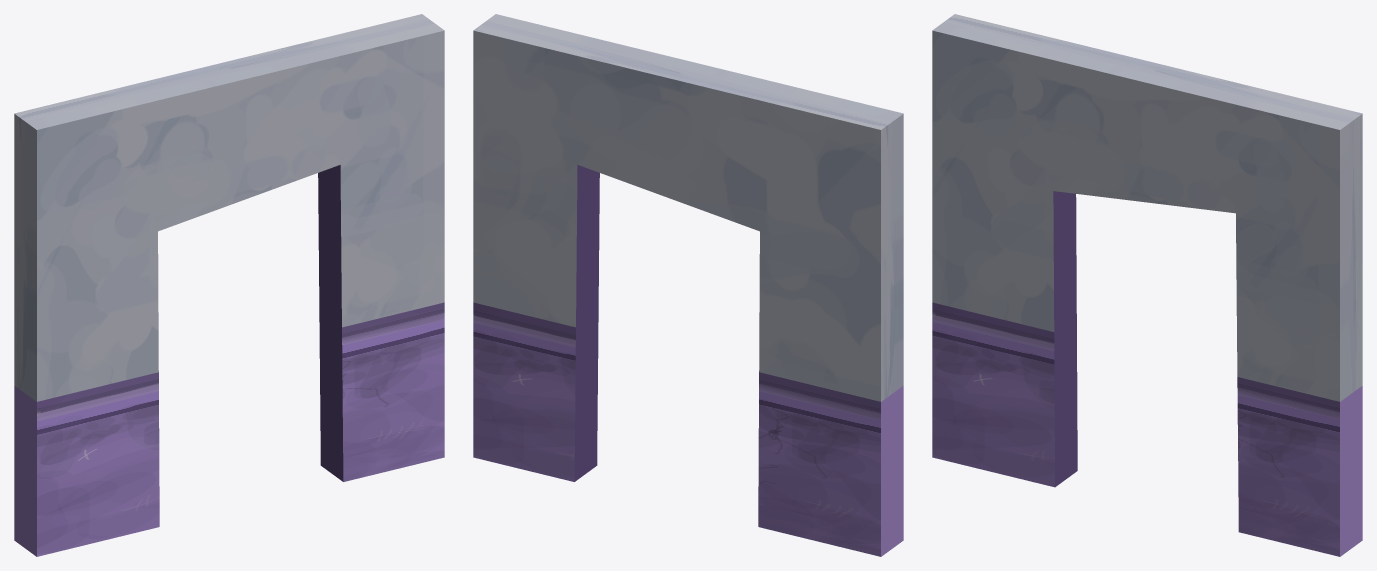
Rendered from ParedPuerta.fbx.
3 views of the same model, side by side, from view 1: azimuth 30°, elevation 25°; view 2: azimuth 150°, elevation 25°; view 3: azimuth 330°, elevation 25° (orthographic).
Visible parts, largest first — view 1: Cube.026; view 2: Cube.026; view 3: Cube.026.
Boxes of the visible parts, x1,y1,x2,y2 form: Cube.026: (14,14,444,556); Cube.026: (473,14,903,556); Cube.026: (932,14,1362,556).
Size of the model in its own units: 1057 by 1057 by 102.
Materials: 2 (2 with a texture image).
